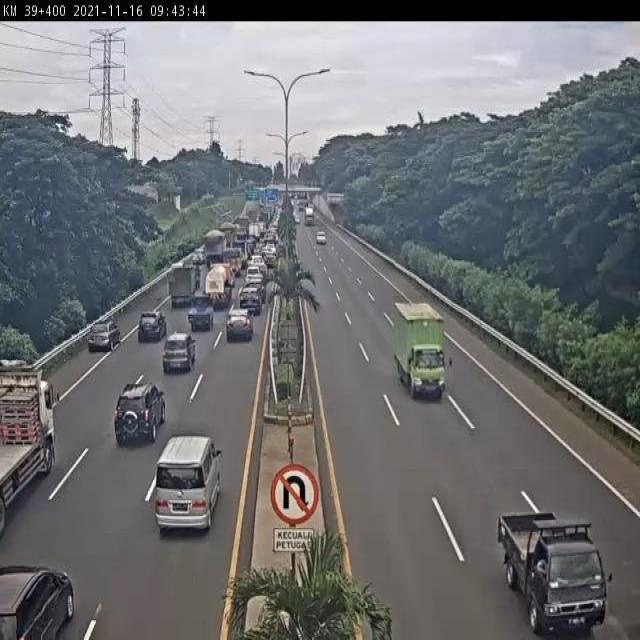car: (490, 505, 610, 639), (147, 434, 224, 542), (0, 553, 77, 640), (105, 371, 173, 453), (159, 328, 198, 379), (86, 313, 123, 355), (222, 304, 256, 348), (135, 307, 167, 348), (186, 292, 216, 335), (237, 289, 263, 319), (244, 275, 267, 304), (244, 265, 264, 288), (192, 245, 207, 267), (251, 253, 266, 272), (264, 251, 278, 268)
small truck: (391, 305, 455, 412), (164, 252, 203, 308), (222, 244, 246, 276)
truck-l-: (0, 363, 57, 540)
truck-m-: (203, 263, 234, 313), (198, 232, 226, 276), (216, 219, 236, 248)
